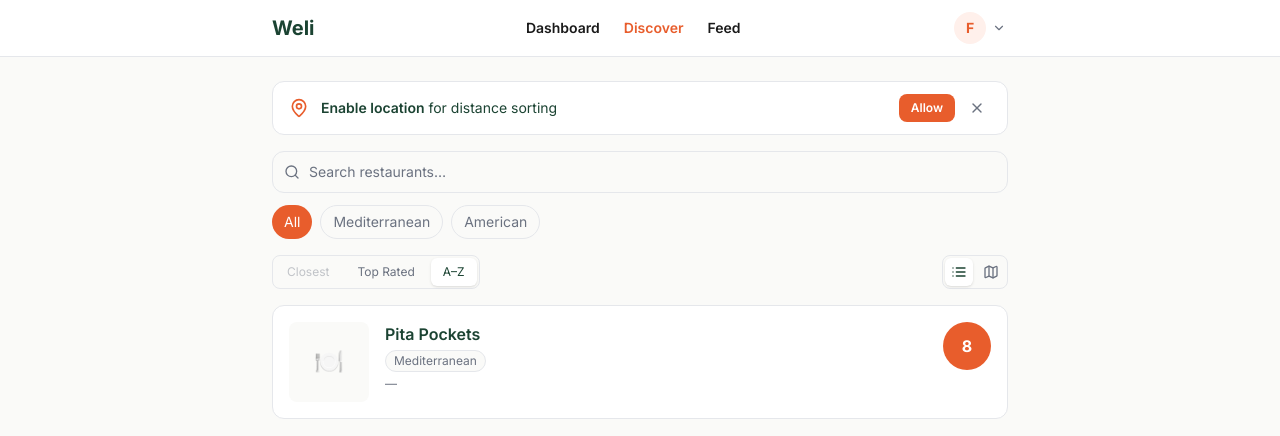
DiscoverPage › hides LocationPrompt after dismiss is clicked
The width and height of the screenshot is (1280, 436).
Click the button named "dismiss location prompt" at [977, 108], box [963,94,991,122]
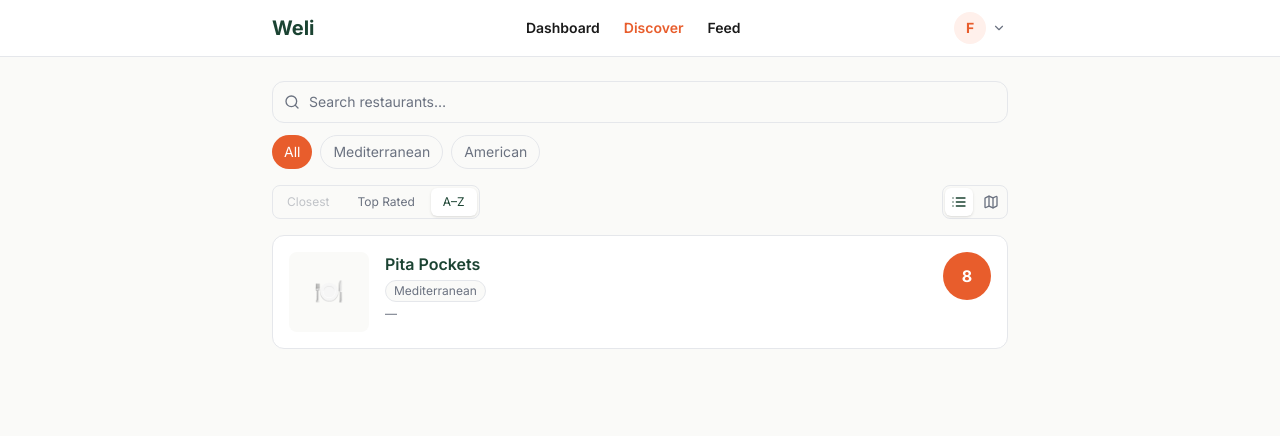
Now the text "Enable location" is gone
